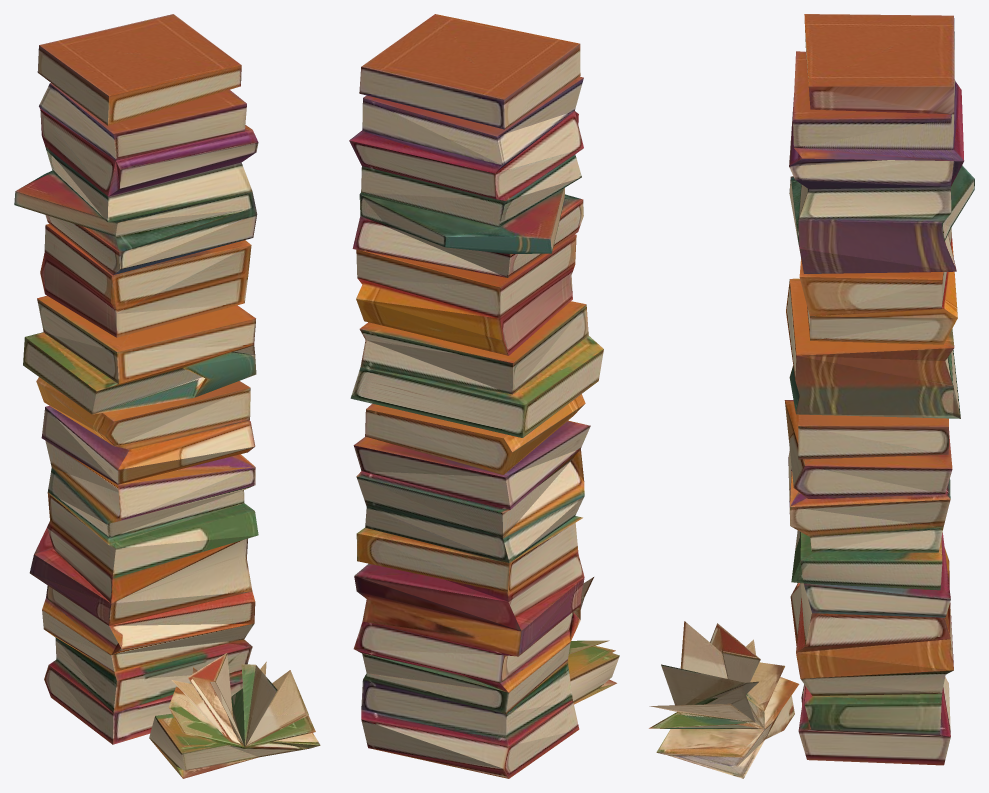
The model's file is pilha-de-livros.glb.
3 renders of one model, left to right at view 1: azimuth 30°, elevation 25°; view 2: azimuth 150°, elevation 25°; view 3: azimuth 270°, elevation 25°, orthographic. The views are drawn at different scales.
Size of the model in its own units: 0.5956 by 1.9 by 0.824.
1 material, 1 textured.
